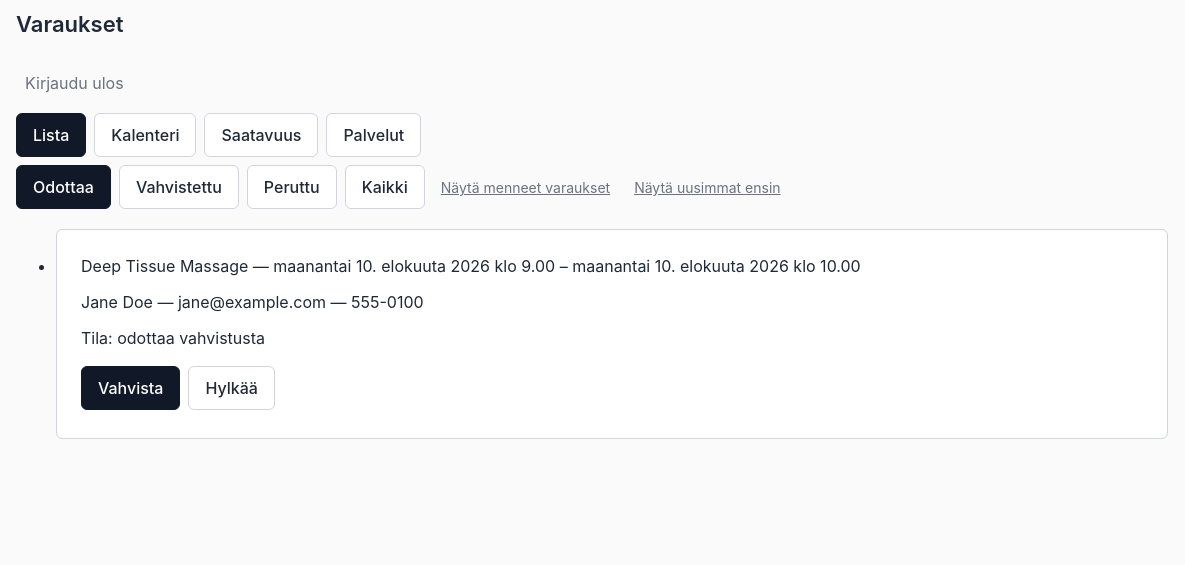
Test case: AdminDashboard › declines with a blank reason by omitting the reason field, not sending an empty string
The image size is (1185, 565).
Expected: the list item with test id "booking-booking-1" is shown, [56,229,1168,439]
Click the button "Hylkää" at (232, 388), box [188,366,275,410]
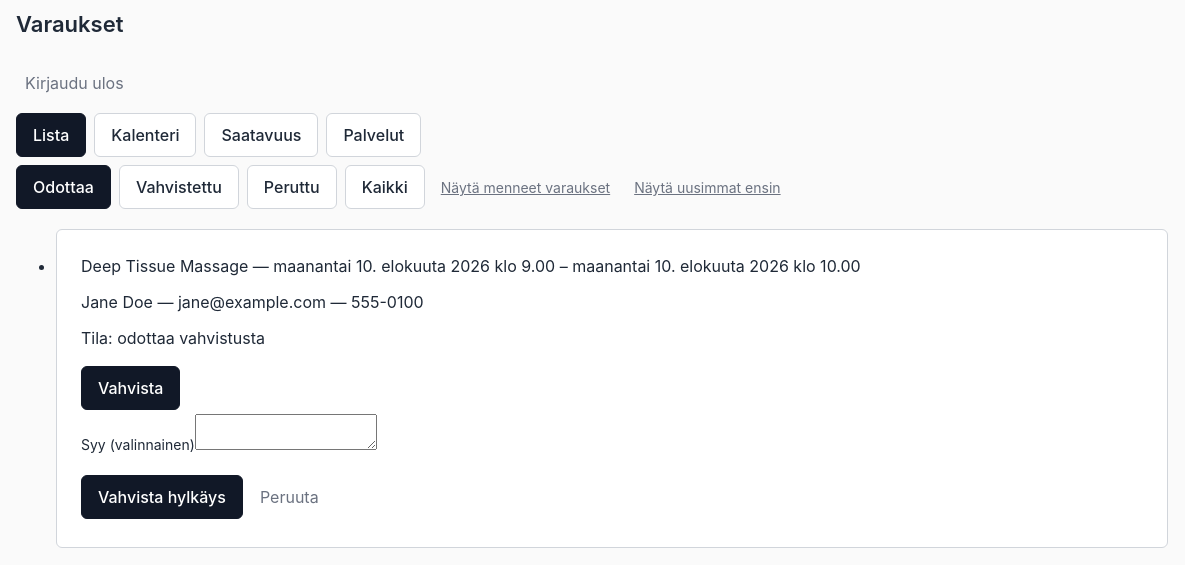
Click the button "Vahvista hylkäys" at (162, 497), box [81,475,243,519]
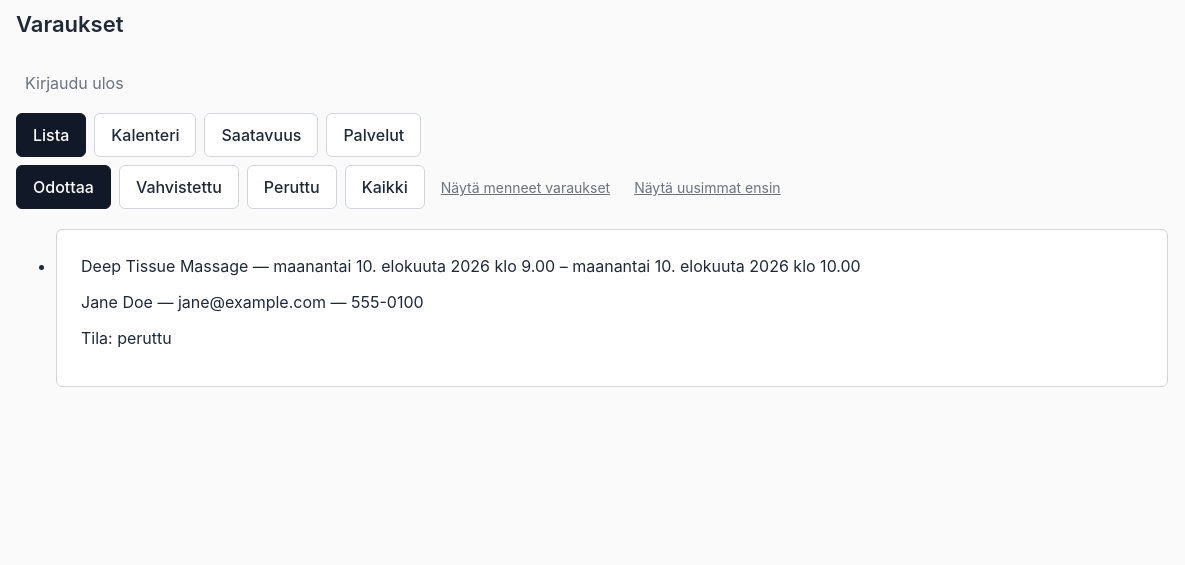
Expected: the list item with test id "booking-booking-1" shows "Tila: peruttu", [56,229,1168,387]
